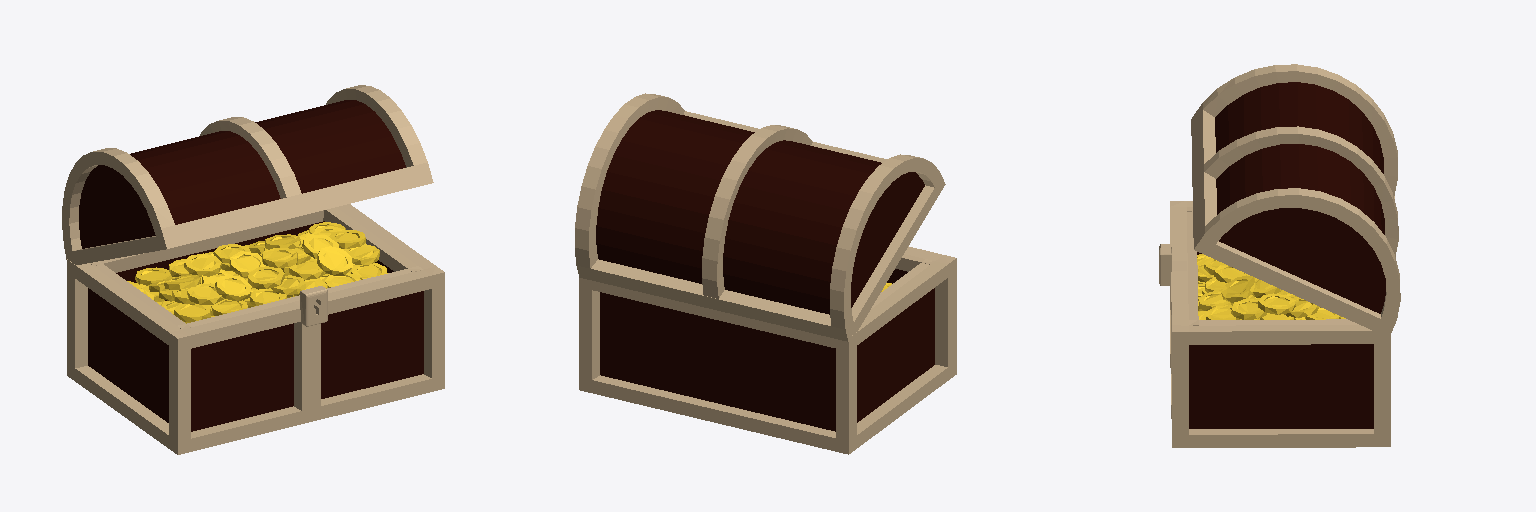
The model's file is Treasure.obj.
The picture shows the model from 3 angles: view 1: azimuth 30°, elevation 25°; view 2: azimuth 150°, elevation 25°; view 3: azimuth 270°, elevation 25°; orthographic projection.
Parts seen in each view (by area): view 1: Cylinder.001, Cube_Cube.001, kayu_dalam_Cube.002, Cylinder.062_Cylinder.064, Cube.001_Cube.003; view 2: Cylinder.001, kayu_dalam_Cube.002, Cube_Cube.001; view 3: Cylinder.001, kayu_dalam_Cube.002, Cube_Cube.001, Cylinder.062_Cylinder.064, Cube.001_Cube.003.
Boxes of the visible parts, x1=… form: Cylinder.001: x1=62, y1=85, x2=433, y2=264; Cube_Cube.001: x1=67, y1=204, x2=444, y2=454; kayu_dalam_Cube.002: x1=88, y1=221, x2=423, y2=431; Cylinder.062_Cylinder.064: x1=127, y1=222, x2=387, y2=323; Cube.001_Cube.003: x1=300, y1=286, x2=327, y2=326; Cylinder.001: x1=575, y1=93, x2=945, y2=341; kayu_dalam_Cube.002: x1=600, y1=269, x2=934, y2=431; Cube_Cube.001: x1=579, y1=246, x2=956, y2=454; Cylinder.001: x1=1191, y1=64, x2=1400, y2=332; kayu_dalam_Cube.002: x1=1189, y1=252, x2=1373, y2=428; Cube_Cube.001: x1=1170, y1=201, x2=1390, y2=447; Cylinder.062_Cylinder.064: x1=1197, y1=254, x2=1345, y2=319; Cube.001_Cube.003: x1=1159, y1=244, x2=1171, y2=285.
Bounding box in the file's own units: 2.85 × 2.55 × 2.21.